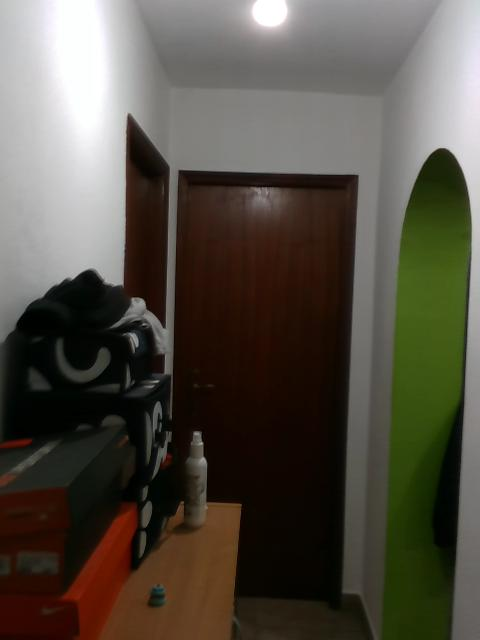closed_door: (173, 168, 356, 618)
